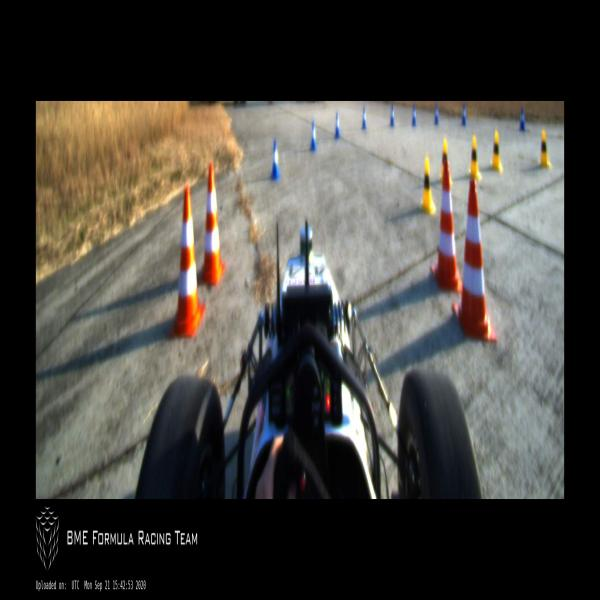blue_cone: (270, 140, 280, 180), (310, 120, 317, 151), (334, 112, 340, 139), (518, 108, 525, 131), (361, 107, 367, 130), (411, 105, 417, 126), (390, 104, 394, 127), (462, 104, 466, 125), (434, 104, 438, 124)
large_orange_cone: (453, 177, 496, 340), (168, 183, 205, 339), (431, 161, 462, 292), (198, 163, 226, 287)
yellow_cone: (420, 156, 436, 215), (468, 136, 482, 180), (439, 138, 452, 184), (537, 128, 551, 169), (489, 130, 503, 171)
